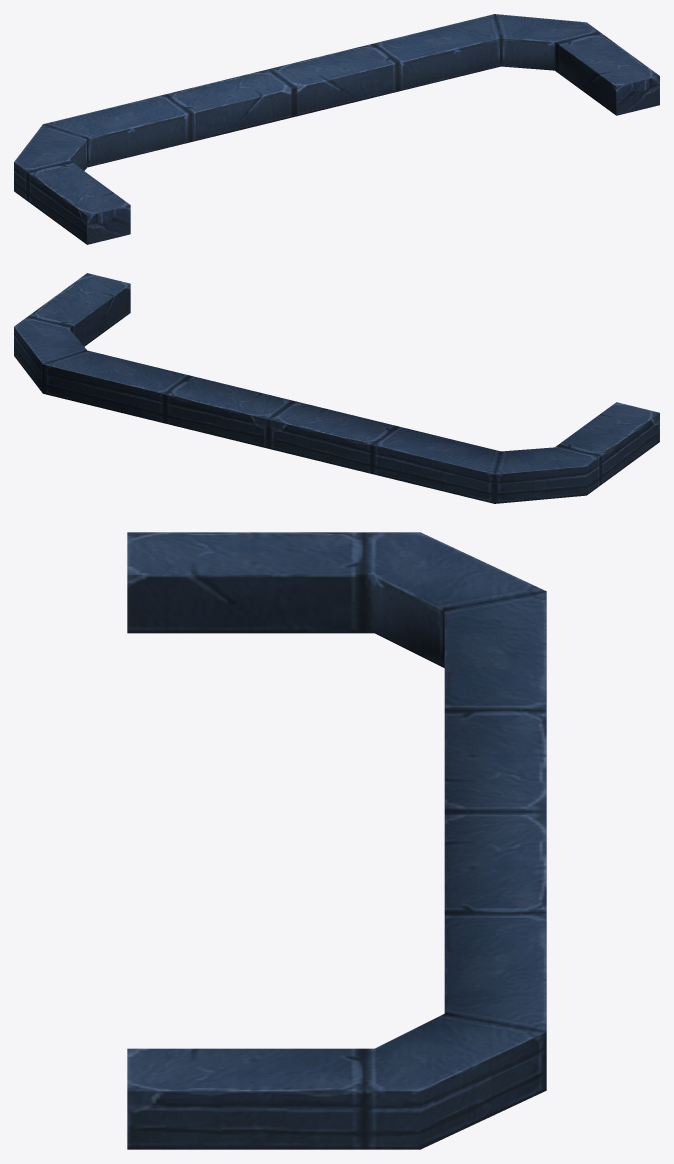
File: kuang01.FBX
The picture shows the model from 3 angles, top to bottom: view 1: azimuth 30°, elevation 25°; view 2: azimuth 150°, elevation 25°; view 3: azimuth 270°, elevation 25°; orthographic projection. The views are drawn at different scales.
Visible parts, largest first — view 1: kuang01; view 2: kuang01; view 3: kuang01.
Part boxes in pixels (x1,y1,x2,y2): kuang01: [14, 14, 659, 244]; kuang01: [14, 273, 659, 503]; kuang01: [127, 532, 546, 1149].
Bounding box in the file's own units: 2481 × 121 × 786.
